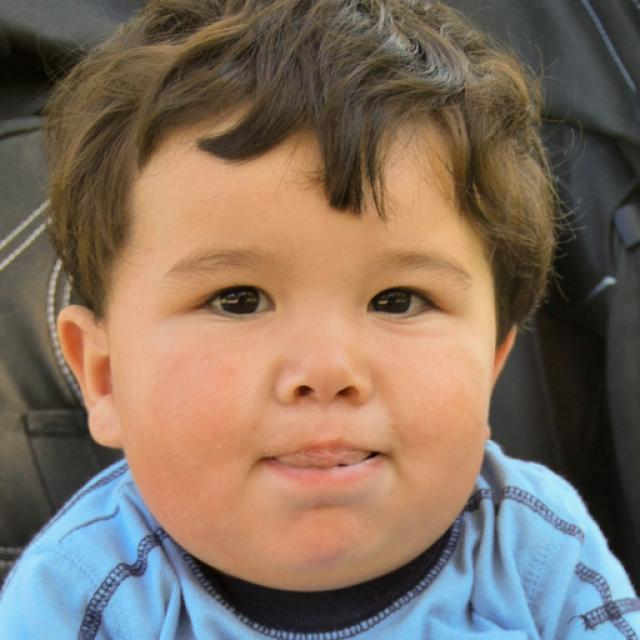neutral: (115, 94, 499, 594)
